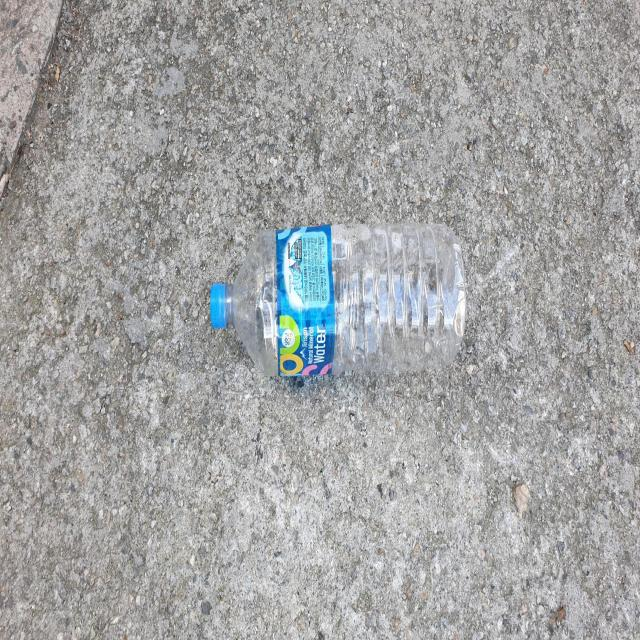plastic: (210, 222, 467, 376)
